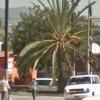Tree: (13, 4, 92, 76)
